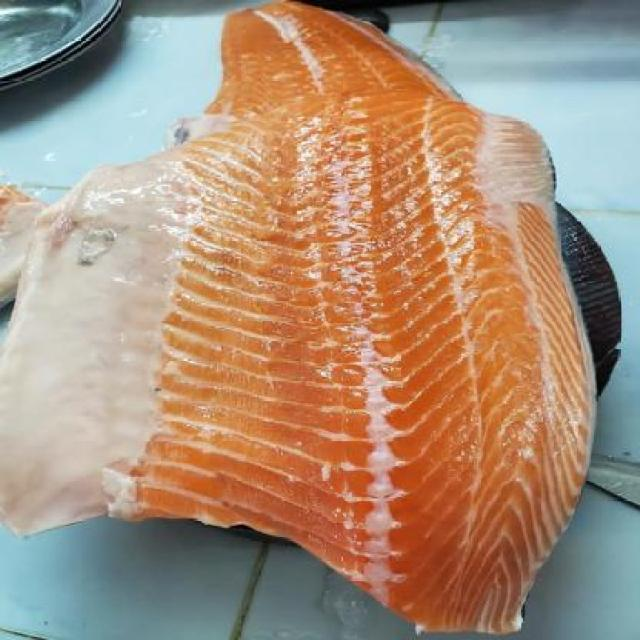salmon: (9, 7, 612, 640)
